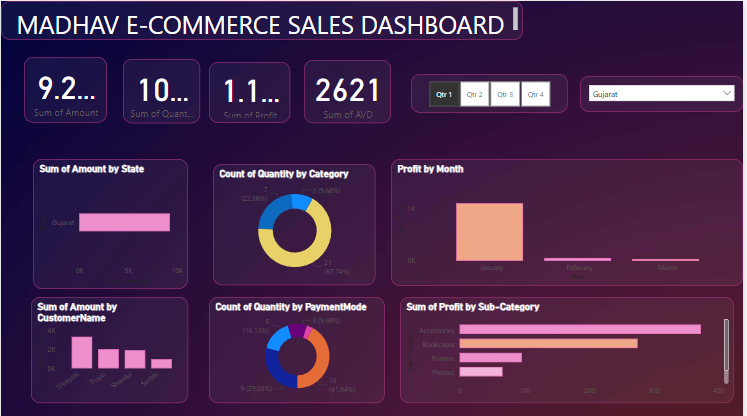

The dashboard page shown, as its layout file describes it:
{"tool":"powerbi","page":{"name":"Page 1","canvas":[1280,720],"ordinal":0},"visuals":[{"type":"textbox","box":[0,0,900,66.6],"z":0},{"type":"columnChart","title":"Profit by Month","fields":{"Category":["orders csv.Order Date.Variation.Date Hierarchy.Month"],"Y":["Details.Profit"]},"box":[672.9,272.9,607.1,218.6],"z":1000},{"type":"barChart","fields":{"Category":["Details.Sub-Category"],"Y":["Details.Profit"]},"box":[688.6,510,575.7,182.9],"z":2000},{"type":"donutChart","fields":{"Category":["Details.Category"],"Y":["Details.Quantity"]},"box":[365.7,281.4,280,208.6],"z":3000},{"type":"donutChart","fields":{"Category":["Details.PaymentMode"],"Y":["Details.Quantity"]},"box":[358.6,510,302.9,182.9],"z":4000},{"type":"card","fields":{"Values":["Details.Amount"]},"box":[39.7,96.4,143.1,113.4],"z":5000},{"type":"card","fields":{"Values":["Details.Quantity"]},"box":[209.8,99.2,133.2,110.6],"z":6000},{"type":"card","fields":{"Values":["Details.Profit"]},"box":[358.6,104.9,140.3,104.9],"z":7000},{"type":"card","fields":{"Values":["Details.AVD"]},"box":[523,102,150.2,109.1],"z":8000},{"type":"barChart","fields":{"Category":["orders csv.State"],"Y":["Details.Amount"]},"box":[55.7,272.9,267.1,224.3],"z":9000},{"type":"columnChart","fields":{"Y":["Details.Amount"],"Category":["orders csv.CustomerName"]},"box":[51.4,510,271.4,182.9],"z":10000},{"type":"slicer","fields":{"Values":["orders csv.Order Date.Variation.Date Hierarchy.Quarter"]},"box":[706.7,125,270,66.7],"z":11000},{"type":"slicer","fields":{"Values":["orders csv.State"]},"box":[998,130,282,62],"z":12000}]}

Visuals, with their boxes in screenshot pixels (x1, y1, x2, y2), scaled from the page's 1280x720 canvas onto the 747x416 screenshot:
textbox: pyautogui.locateOnScreen(0, 0, 525, 38)
"Profit by Month" columnChart: pyautogui.locateOnScreen(393, 158, 746, 284)
barChart - Details.Sub-Category x Details.Profit: pyautogui.locateOnScreen(402, 295, 738, 400)
donutChart - Details.Category x Details.Quantity: pyautogui.locateOnScreen(213, 163, 377, 283)
donutChart - Details.PaymentMode x Details.Quantity: pyautogui.locateOnScreen(209, 295, 386, 400)
card - Details.Amount: pyautogui.locateOnScreen(23, 56, 107, 121)
card - Details.Quantity: pyautogui.locateOnScreen(122, 57, 200, 121)
card - Details.Profit: pyautogui.locateOnScreen(209, 61, 291, 121)
card - Details.AVD: pyautogui.locateOnScreen(305, 59, 393, 122)
barChart - orders csv.State x Details.Amount: pyautogui.locateOnScreen(33, 158, 188, 287)
columnChart - Details.Amount x orders csv.CustomerName: pyautogui.locateOnScreen(30, 295, 188, 400)
slicer - orders csv.Order Date.Variation.Date Hierarchy.Quarter: pyautogui.locateOnScreen(412, 72, 570, 111)
slicer - orders csv.State: pyautogui.locateOnScreen(582, 75, 746, 111)
